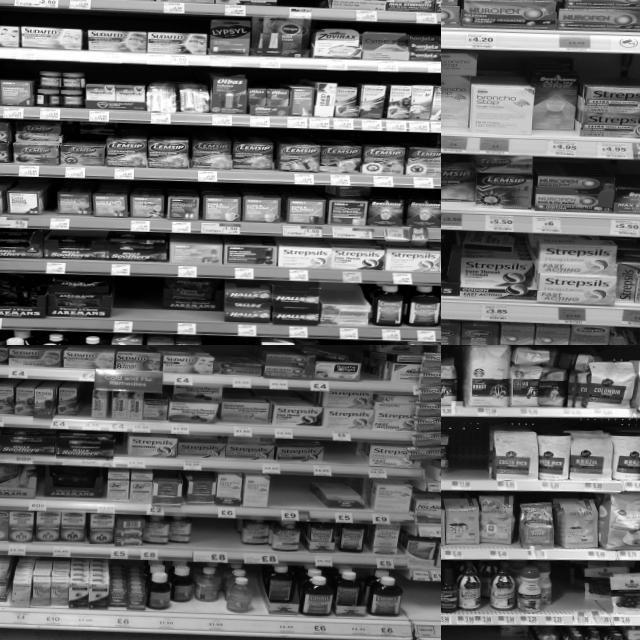Imprecise: (454, 230, 526, 298), (173, 558, 224, 622), (167, 282, 225, 326), (578, 559, 618, 611), (316, 475, 362, 507)
